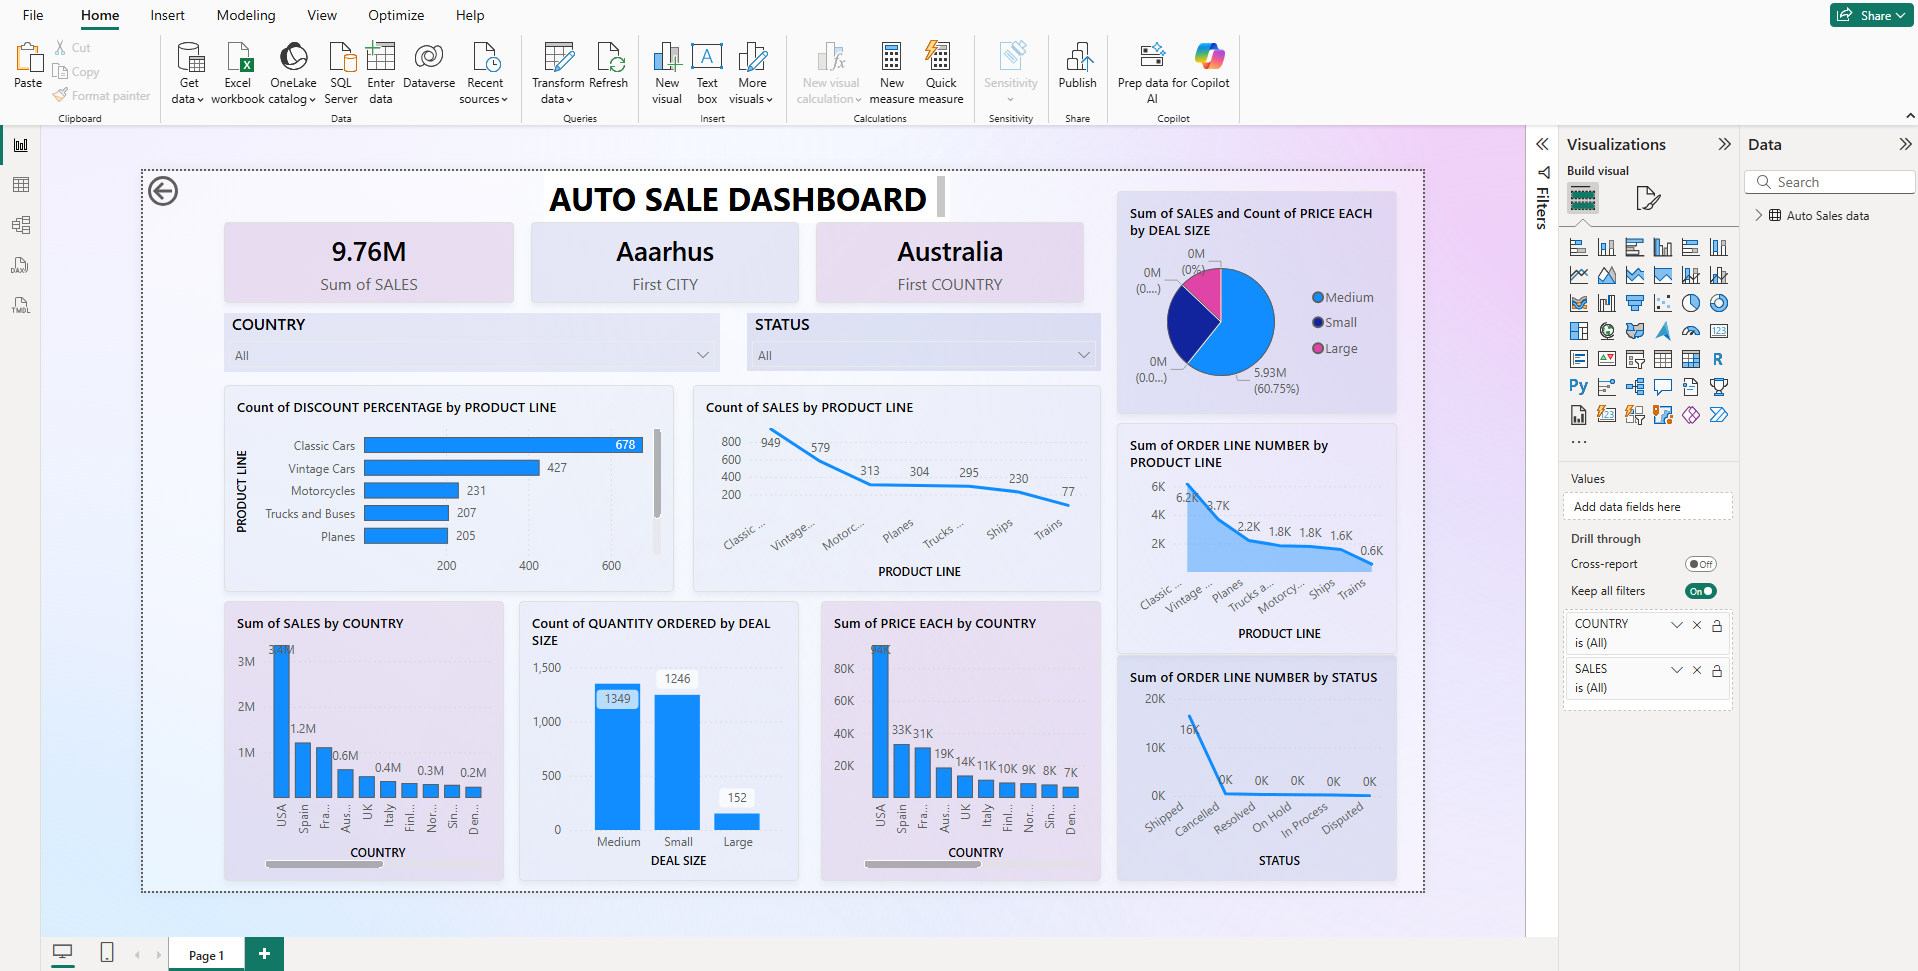

The page's visual inventory and layout, read from the dashboard file:
{"tool":"powerbi","page":{"name":"Page 1","canvas":[1280,720],"ordinal":0},"visuals":[{"type":"columnChart","fields":{"Category":["Auto Sales data.COUNTRY"],"Y":["Sum(Auto Sales data.SALES)"]},"box":[80.7,429.9,280.1,280.1],"z":0},{"type":"lineChart","fields":{"Y":["CountNonNull(Auto Sales data.SALES)"],"Category":["Auto Sales data.PRODUCT LINE"]},"box":[549.5,214,408.5,207.2],"z":1000},{"type":"areaChart","fields":{"Category":["Auto Sales data.PRODUCT LINE"],"Y":["Sum(Auto Sales data.ORDER LINE NUMBER)"]},"box":[973.6,251.9,280.1,231.5],"z":2000},{"type":"pieChart","fields":{"Y":["Sum(Auto Sales data.SALES)","CountNonNull(Auto Sales data.PRICE EACH)"],"Category":["Auto Sales data.DEAL SIZE"]},"box":[973.6,20.4,280.1,222.7],"z":3000},{"type":"clusteredBarChart","fields":{"Category":["Auto Sales data.PRODUCT LINE"],"Y":["Count(Auto Sales data.DISCOUNT PERCENTAGE)"]},"box":[80.7,214,450.3,207.2],"z":4000},{"type":"columnChart","fields":{"Y":["Sum(Auto Sales data.PRICE EACH)"],"Category":["Auto Sales data.COUNTRY"]},"box":[677.9,429.9,280.1,280.1],"z":5000},{"type":"slicer","fields":{"Values":["Auto Sales data.STATUS"]},"box":[604.5,142.4,353.7,57.3],"z":6000},{"type":"actionButton","box":[0,0,100,40],"z":7000},{"type":"lineStackedColumnComboChart","fields":{"Category":["Auto Sales data.DEAL SIZE"],"Y":["CountNonNull(Auto Sales data.QUANTITY ORDERED)"]},"box":[376.1,429.9,280.3,280.3],"z":8000},{"type":"slicer","fields":{"Values":["Auto Sales data.COUNTRY"]},"box":[80.6,142.4,496.1,59.1],"z":9000},{"type":"lineChart","fields":{"Y":["Sum(Auto Sales data.ORDER LINE NUMBER)"],"Category":["Auto Sales data.STATUS"]},"box":[973.6,484.4,280.1,225.7],"z":10000},{"type":"textbox","box":[401.2,0,405.7,51.9],"z":11000},{"type":"card","fields":{"Values":["Sum(Auto Sales data.SALES)"]},"box":[80.6,51,290.1,80.6],"z":11001},{"type":"card","fields":{"Values":["Min(Auto Sales data.COUNTRY)"]},"box":[672.5,51,268.7,80.6],"z":11002},{"type":"card","fields":{"Values":["Min(Auto Sales data.CITY)"]},"box":[387.8,51,268.7,80.6],"z":11003}]}

Visuals, with their boxes on the page's 1280x720 design canvas (x1, y1, x2, y2). These are canvas units, not pixel positions in the 1918x971 screenshot, which may show the page scaled, cropped or inside an application window:
columnChart - Auto Sales data.COUNTRY x Sum(Auto Sales data.SALES): bbox=(81, 430, 361, 710)
lineChart - CountNonNull(Auto Sales data.SALES) x Auto Sales data.PRODUCT LINE: bbox=(550, 214, 958, 421)
areaChart - Auto Sales data.PRODUCT LINE x Sum(Auto Sales data.ORDER LINE NUMBER): bbox=(974, 252, 1254, 483)
pieChart - Sum(Auto Sales data.SALES) x CountNonNull(Auto Sales data.PRICE EACH): bbox=(974, 20, 1254, 243)
clusteredBarChart - Auto Sales data.PRODUCT LINE x Count(Auto Sales data.DISCOUNT PERCENTAGE): bbox=(81, 214, 531, 421)
columnChart - Sum(Auto Sales data.PRICE EACH) x Auto Sales data.COUNTRY: bbox=(678, 430, 958, 710)
slicer - Auto Sales data.STATUS: bbox=(604, 142, 958, 200)
actionButton: bbox=(0, 0, 100, 40)
lineStackedColumnComboChart - Auto Sales data.DEAL SIZE x CountNonNull(Auto Sales data.QUANTITY ORDERED): bbox=(376, 430, 656, 710)
slicer - Auto Sales data.COUNTRY: bbox=(81, 142, 577, 202)
lineChart - Sum(Auto Sales data.ORDER LINE NUMBER) x Auto Sales data.STATUS: bbox=(974, 484, 1254, 710)
textbox: bbox=(401, 0, 807, 52)
card - Sum(Auto Sales data.SALES): bbox=(81, 51, 371, 132)
card - Min(Auto Sales data.COUNTRY): bbox=(672, 51, 941, 132)
card - Min(Auto Sales data.CITY): bbox=(388, 51, 656, 132)
